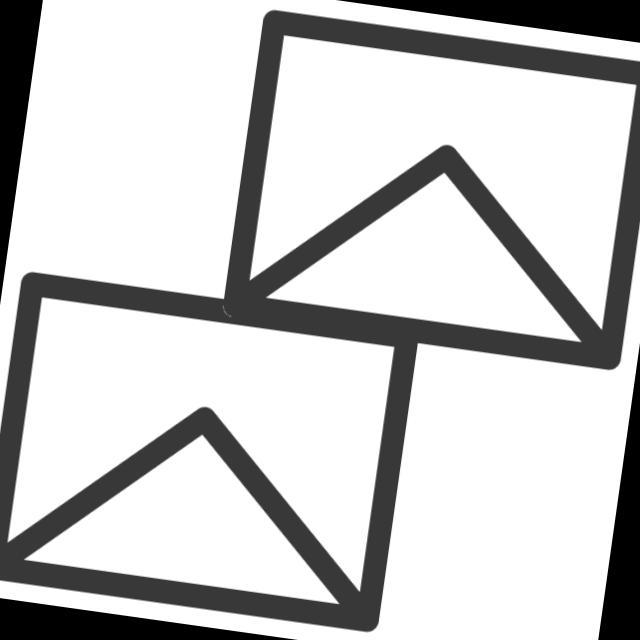letter: (1, 260, 439, 640), (209, 1, 640, 386)
